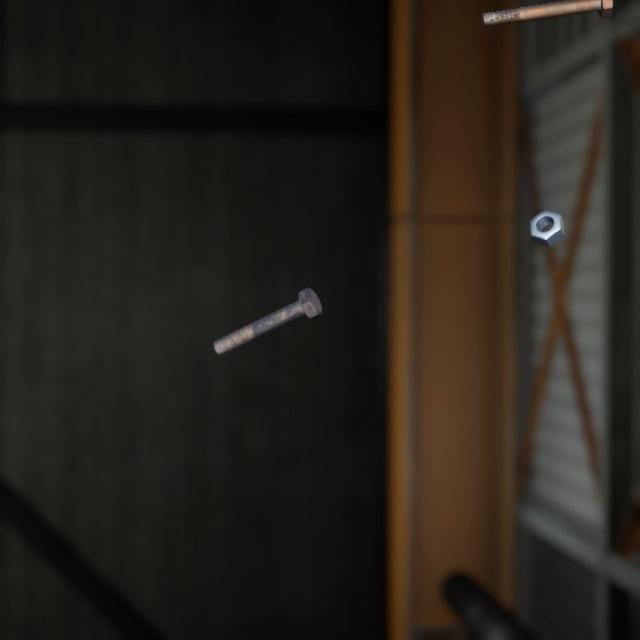bolt: (208, 264, 326, 341), (476, 0, 617, 23)
nut: (525, 190, 568, 235)
